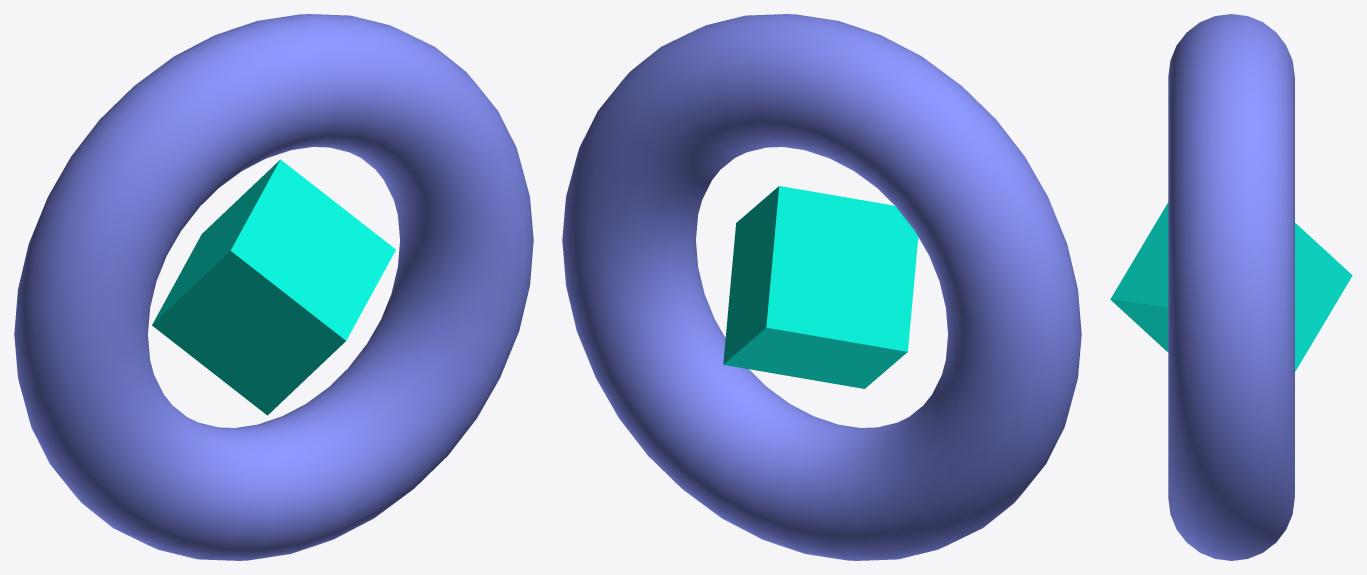
3 renders of one model, left to right at view 1: azimuth 30°, elevation 25°; view 2: azimuth 150°, elevation 25°; view 3: azimuth 270°, elevation 25°, orthographic. The views are drawn at different scales.
Visible parts, largest first — view 1: Torus, Box; view 2: Torus, Box; view 3: Torus, Box.
Part boxes in pixels (x1=…): Torus: x1=14, y1=14, x2=533, y2=560; Box: x1=152, y1=159, x2=395, y2=415; Torus: x1=562, y1=14, x2=1081, y2=560; Box: x1=723, y1=186, x2=918, y2=388; Torus: x1=1168, y1=14, x2=1294, y2=560; Box: x1=1110, y1=202, x2=1352, y2=371.
Size of the model in its own units: 1.56 by 1.56 by 0.689.
